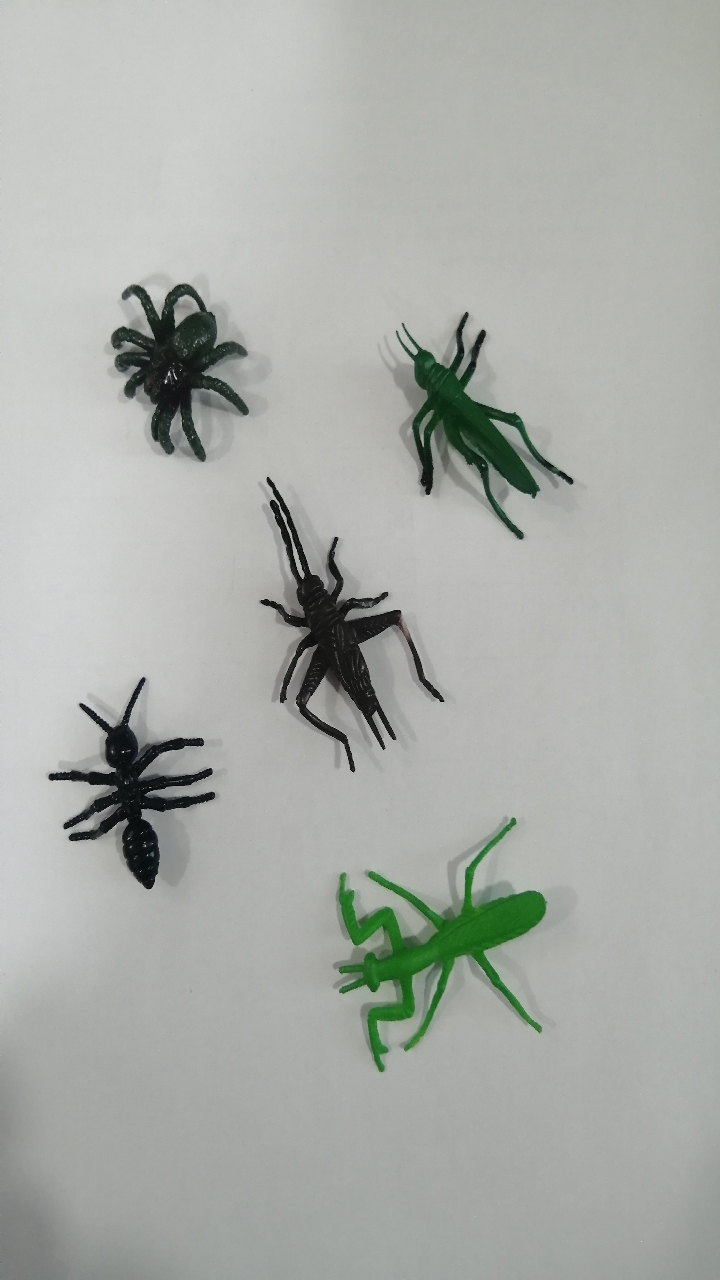intruso: (234, 457, 463, 795), (304, 806, 563, 1083), (363, 283, 598, 552), (60, 232, 271, 489), (23, 659, 220, 906)
